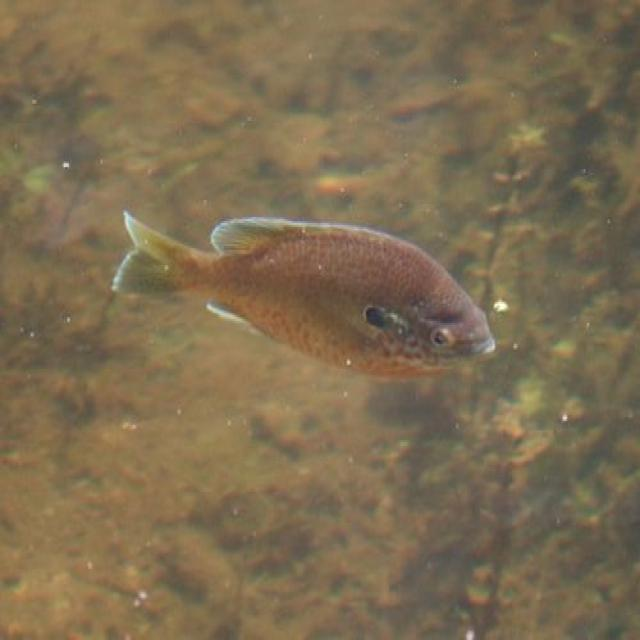Gunes Levregi: (114, 192, 500, 391)
